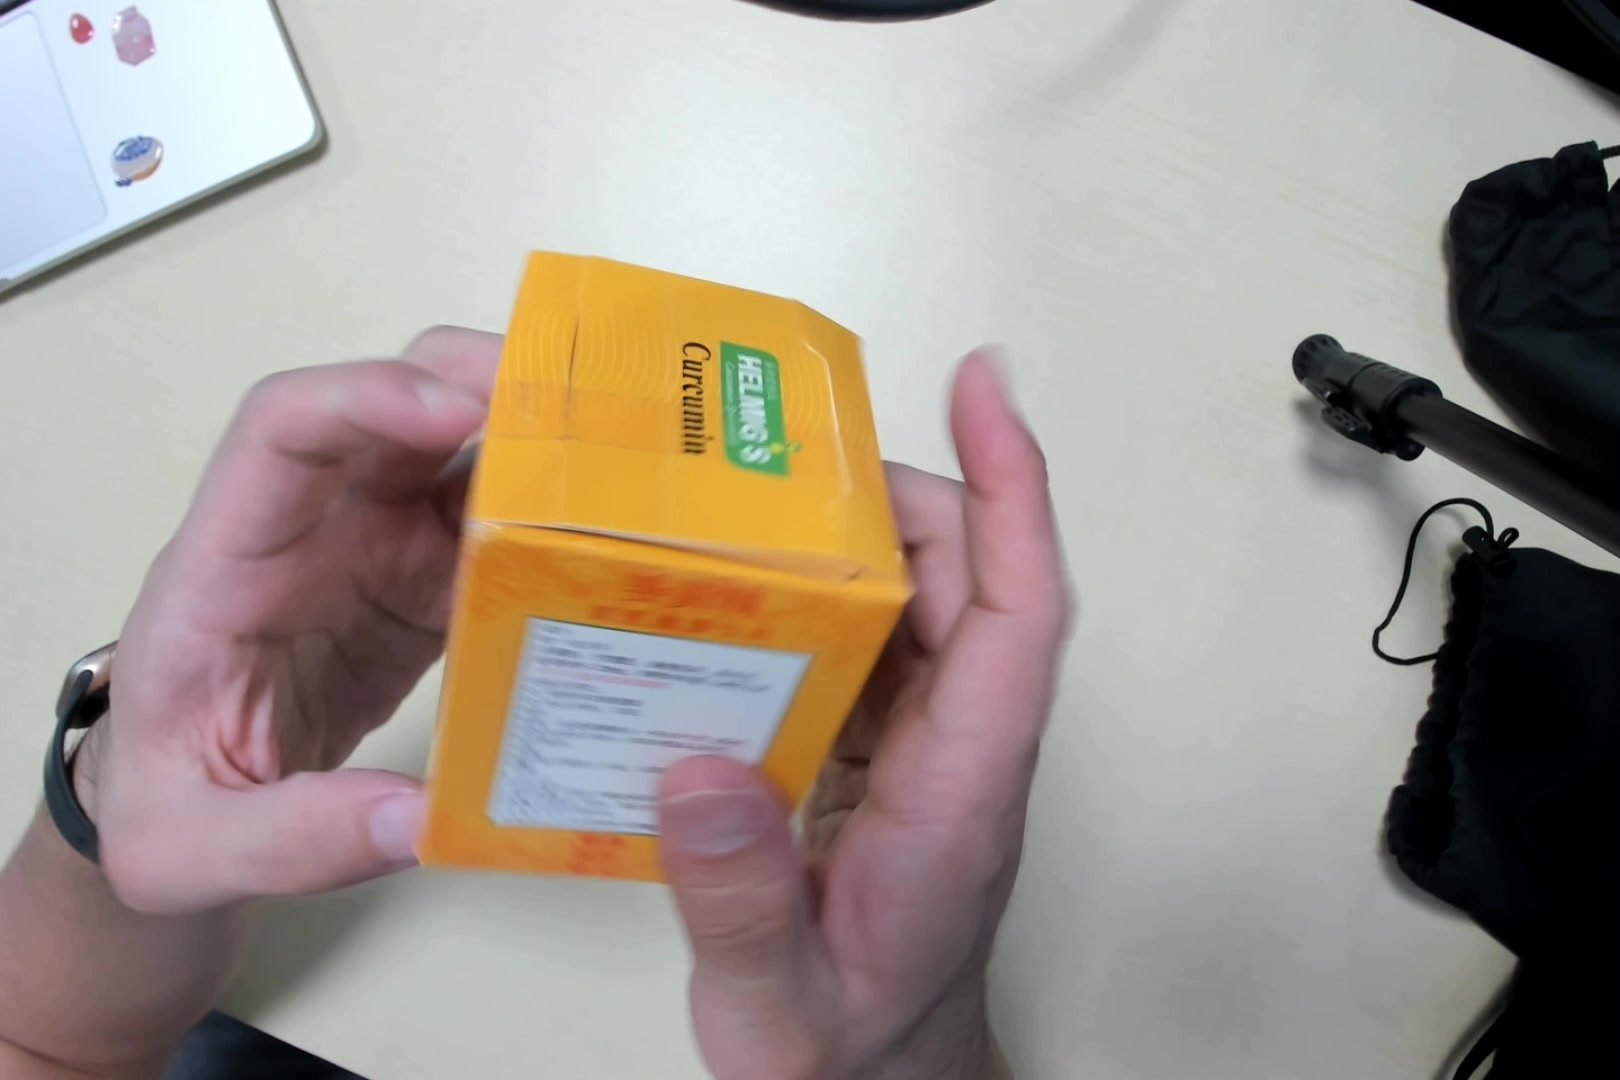OtherHotBeverages(Powder)_0-99g_Halal_NonHealthy: (423, 242, 917, 879)
